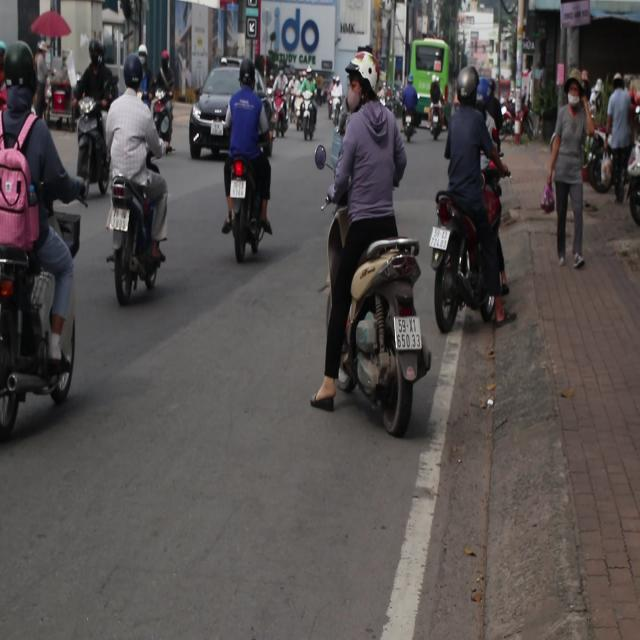bus: (408, 21, 439, 117)
car: (185, 68, 238, 154)
motorbike: (0, 220, 82, 442), (320, 220, 404, 415), (432, 184, 520, 364), (105, 165, 170, 306), (221, 160, 283, 270), (71, 86, 109, 203), (150, 90, 175, 157), (300, 89, 320, 147), (426, 104, 443, 146), (288, 79, 300, 125), (403, 96, 412, 138), (274, 98, 282, 144)
